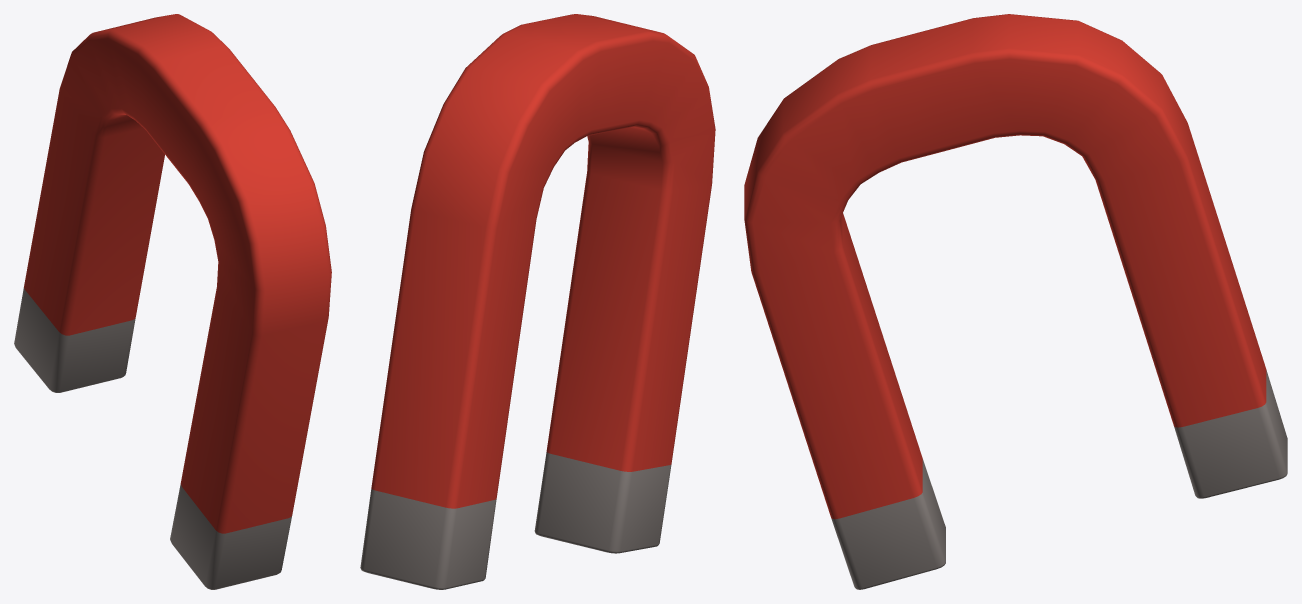
Rendered from SM_Magnet.fbx.
3 views of the same model, side by side, from view 1: azimuth 30°, elevation 25°; view 2: azimuth 150°, elevation 25°; view 3: azimuth 270°, elevation 25° (orthographic). The views are drawn at different scales.
Visible parts, largest first — view 1: Cube; view 2: Cube; view 3: Cube.
Boxes of the visible parts, x1=… form: Cube: x1=14, y1=14, x2=331, y2=589; Cube: x1=360, y1=14, x2=715, y2=589; Cube: x1=744, y1=14, x2=1287, y2=589.
Size of the model in its own units: 25.66 by 159 by 145.
